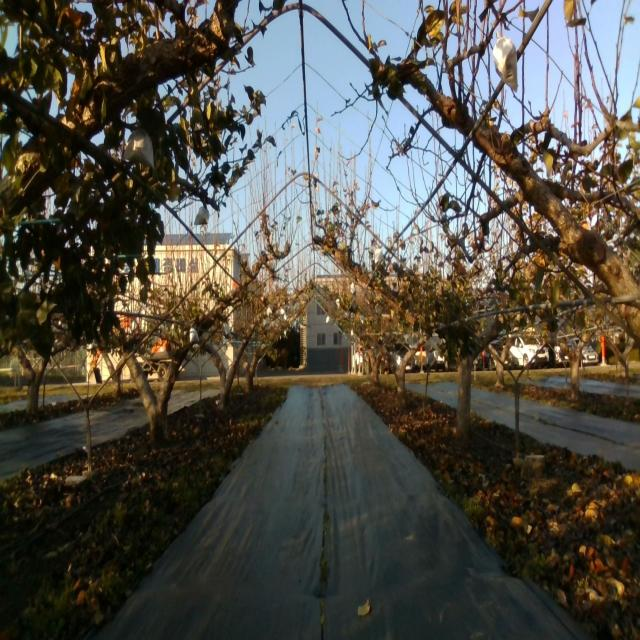pearbags: (493, 32, 518, 93), (124, 127, 156, 170), (194, 206, 210, 226)
